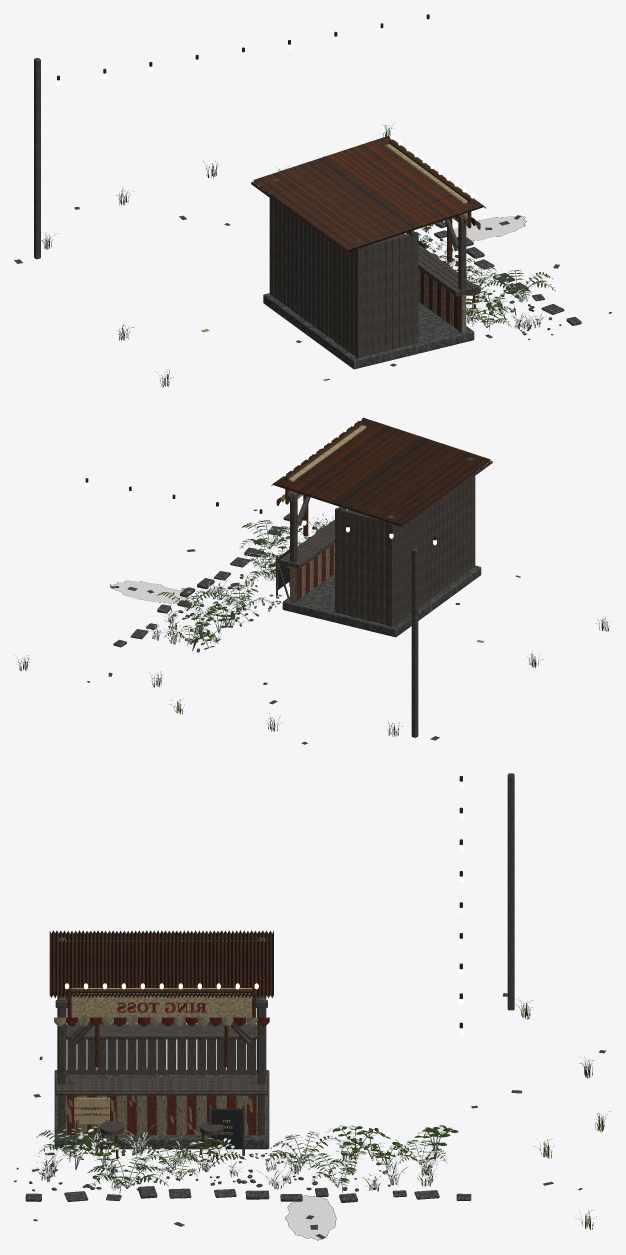
The model's file is SM_Env_Tile_m2_m2.fbx.
3 renders of one model, top to bottom at view 1: azimuth 30°, elevation 25°; view 2: azimuth 150°, elevation 25°; view 3: azimuth 270°, elevation 25°, orthographic. The views are drawn at different scales.
Parts seen in each view (by area): view 1: SM_Env_Tile_m2_m2; view 2: SM_Env_Tile_m2_m2; view 3: SM_Env_Tile_m2_m2.
Part boxes in pixels (box(x1,y1,x2,y2)): SM_Env_Tile_m2_m2: box(14, 14, 611, 387); SM_Env_Tile_m2_m2: box(18, 416, 609, 744); SM_Env_Tile_m2_m2: box(14, 773, 610, 1240).
Size of what is drawn, in the model's own units: 1229 by 1198 by 520.
Materials: 20 (13 with a texture image).
